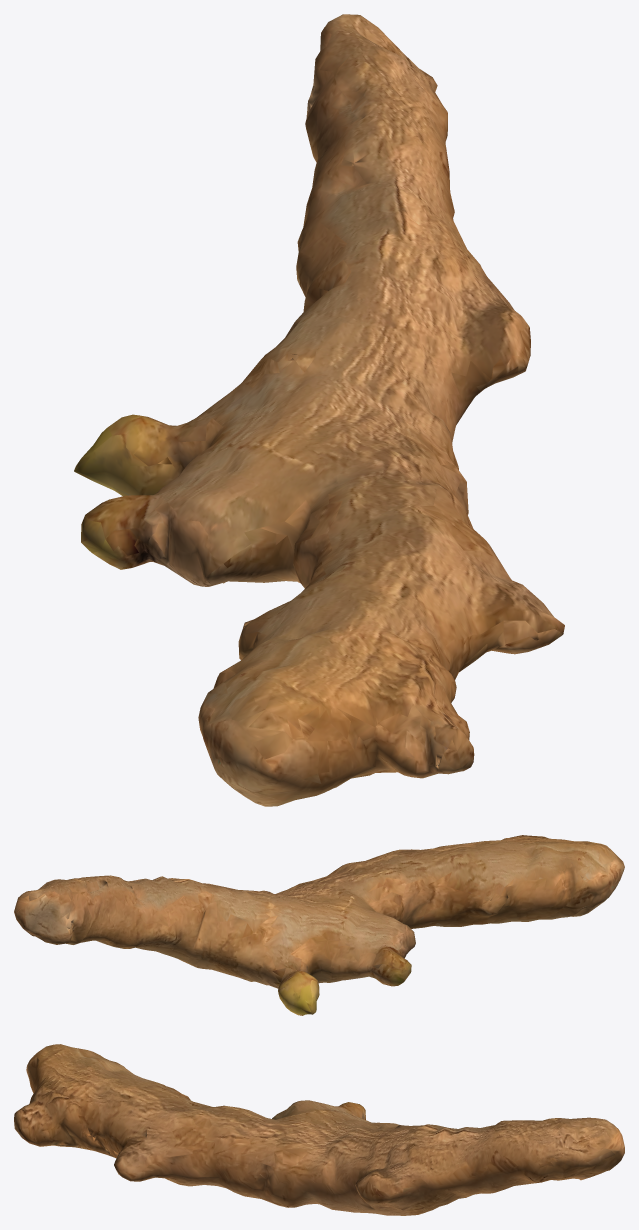
Rendered from Ginger low poly.fbx.
3 views of the same model, one above another, from view 1: azimuth 30°, elevation 25°; view 2: azimuth 150°, elevation 25°; view 3: azimuth 270°, elevation 25° (orthographic). The views are drawn at different scales.
Parts seen in each view (by area): view 1: Ginger model; view 2: Ginger model; view 3: Ginger model.
Part boxes in pixels (left/top/right/bottom): Ginger model: left=74, top=14, right=564, bottom=806; Ginger model: left=14, top=835, right=624, bottom=1015; Ginger model: left=14, top=1044, right=624, bottom=1215.
Size of the model in its own units: 8857 by 3414 by 12820.
